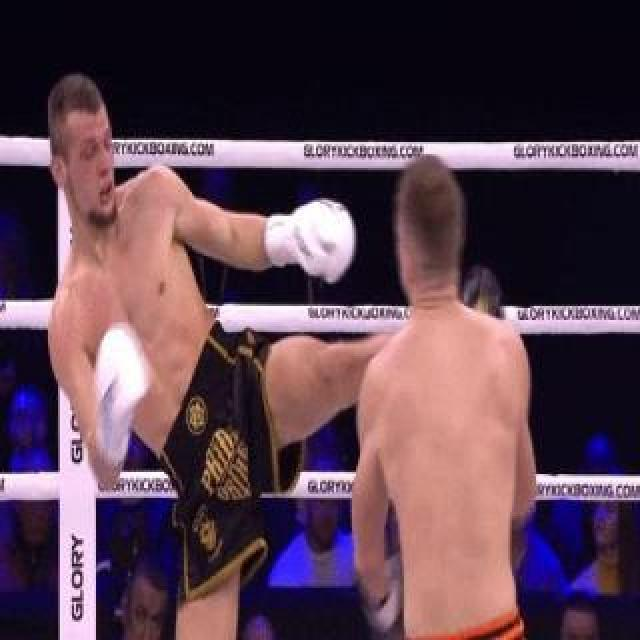fight: (26, 58, 628, 640)
